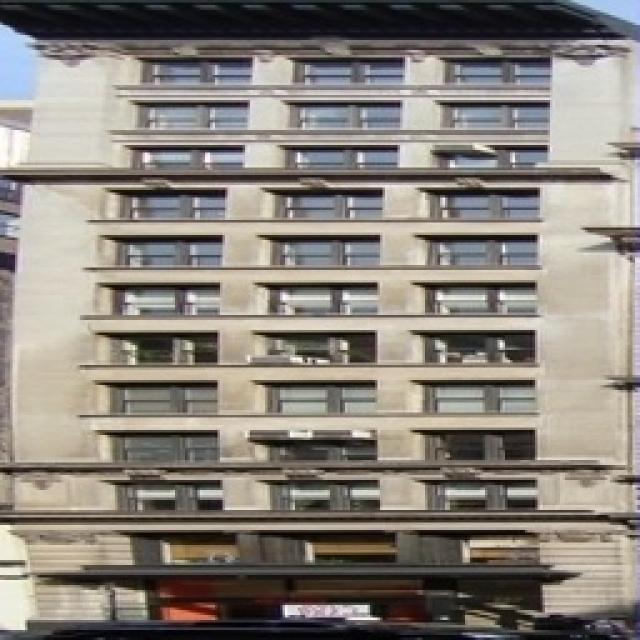building: (15, 2, 640, 640)
